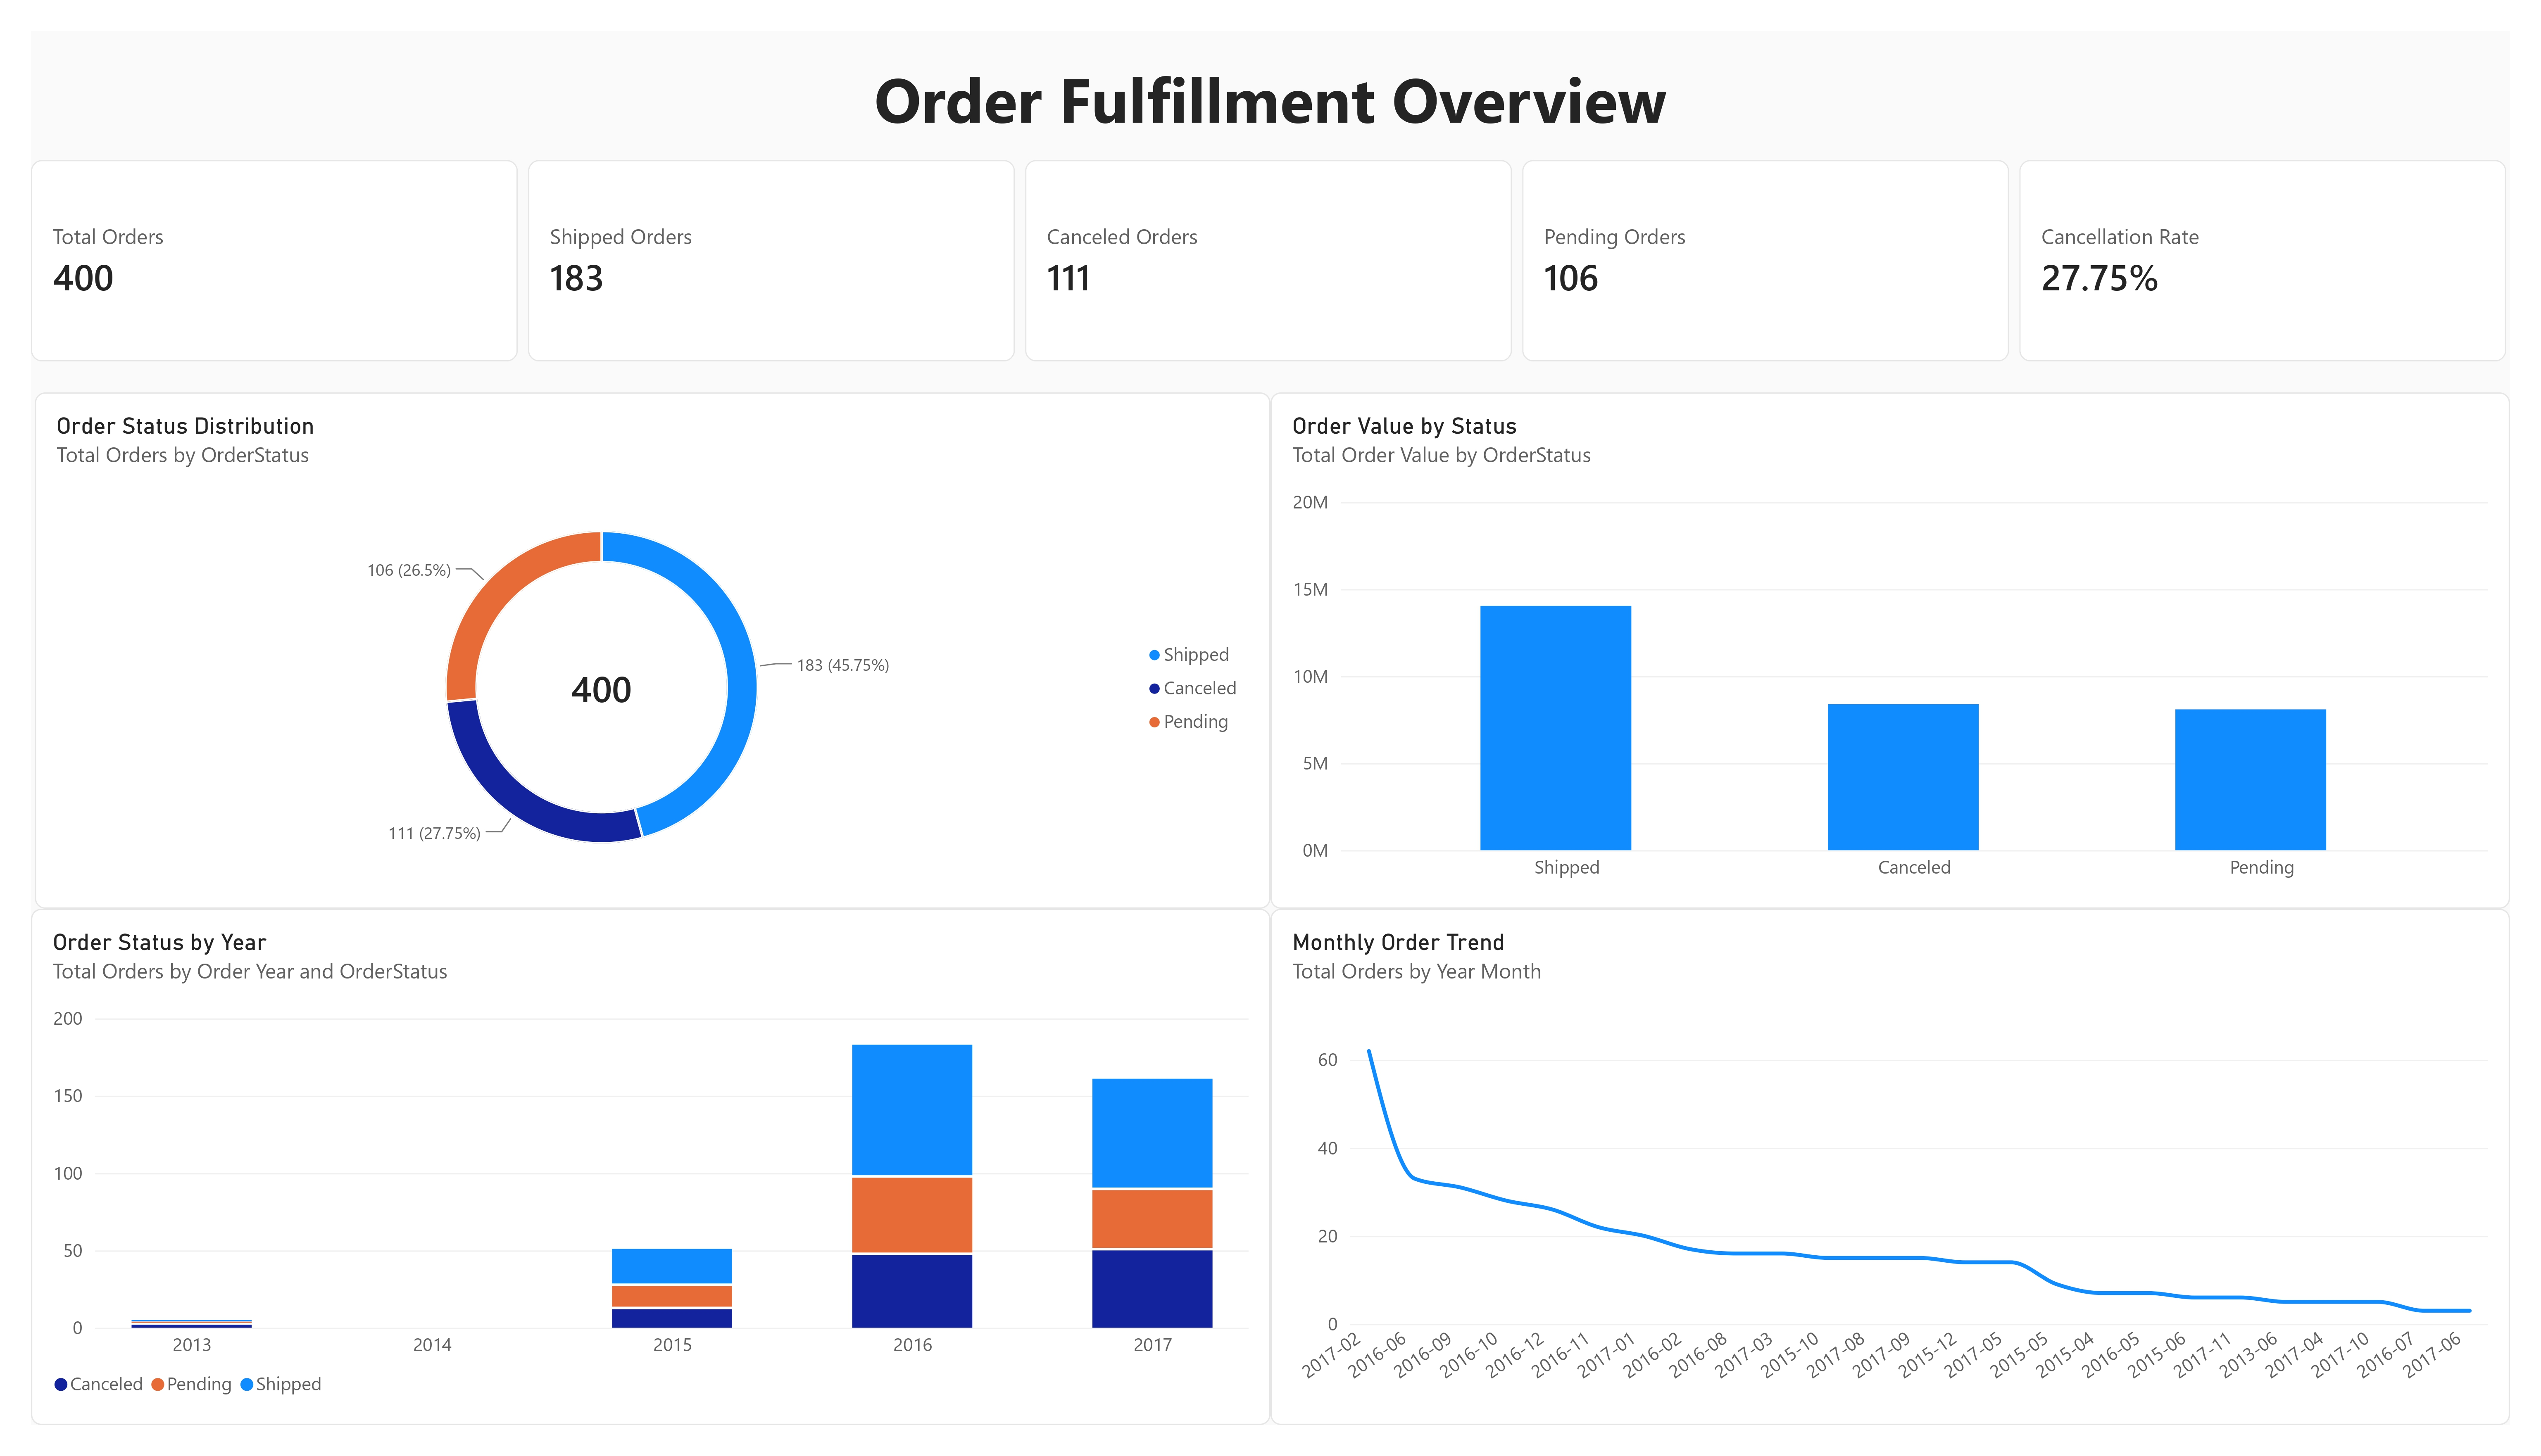

The page's visual inventory and layout, read from the dashboard file:
{"tool":"powerbi","page":{"name":"Order Fulfillment Overview","canvas":[1920,1080],"ordinal":0},"visuals":[{"type":"cardVisual","fields":{"Data":["OrderData.Total Orders","OrderData.Shipped Orders","OrderData.Canceled Orders","OrderData.Pending Orders","OrderData.Cancellation Rate"]},"box":[0,100,1920,156.7],"z":0},{"type":"donutChart","title":"Order Status Distribution","fields":{"Category":["OrderData.OrderStatus"],"Y":["OrderData.Total Orders"]},"box":[3.3,280,956.7,400],"z":1000},{"type":"columnChart","title":"Order Status by Year","fields":{"Category":["OrderData.Order Year"],"Series":["OrderData.OrderStatus"],"Y":["OrderData.Total Orders"]},"box":[0,680,960,400],"z":2000},{"type":"columnChart","title":"Order Value by Status","fields":{"Category":["OrderData.OrderStatus"],"Y":["OrderData.Total Order Value"]},"box":[960,280,960,400],"z":3000},{"type":"lineChart","title":"Monthly Order Trend","fields":{"Category":["OrderData.Year Month"],"Y":["OrderData.Total Orders"]},"box":[960,680,960,400],"z":4000},{"type":"textbox","box":[0,0,1920,100],"z":5000}]}

Visuals, with their boxes on the page's 1920x1080 design canvas (x1, y1, x2, y2). These are canvas units, not pixel positions in the 2541x1456 screenshot, which may show the page scaled, cropped or inside an application window:
cardVisual - OrderData.Total Orders x OrderData.Shipped Orders: {"x1": 0, "y1": 100, "x2": 1920, "y2": 257}
"Order Status Distribution" donutChart: {"x1": 3, "y1": 280, "x2": 960, "y2": 680}
"Order Status by Year" columnChart: {"x1": 0, "y1": 680, "x2": 960, "y2": 1080}
"Order Value by Status" columnChart: {"x1": 960, "y1": 280, "x2": 1920, "y2": 680}
"Monthly Order Trend" lineChart: {"x1": 960, "y1": 680, "x2": 1920, "y2": 1080}
textbox: {"x1": 0, "y1": 0, "x2": 1920, "y2": 100}
